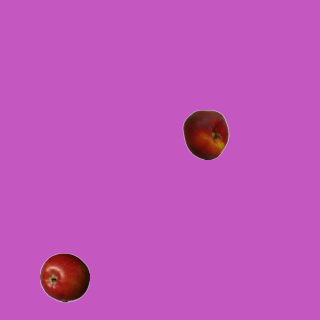Apple Braeburn: (39, 252, 89, 302)
Nectarine Flat: (180, 109, 230, 159)
